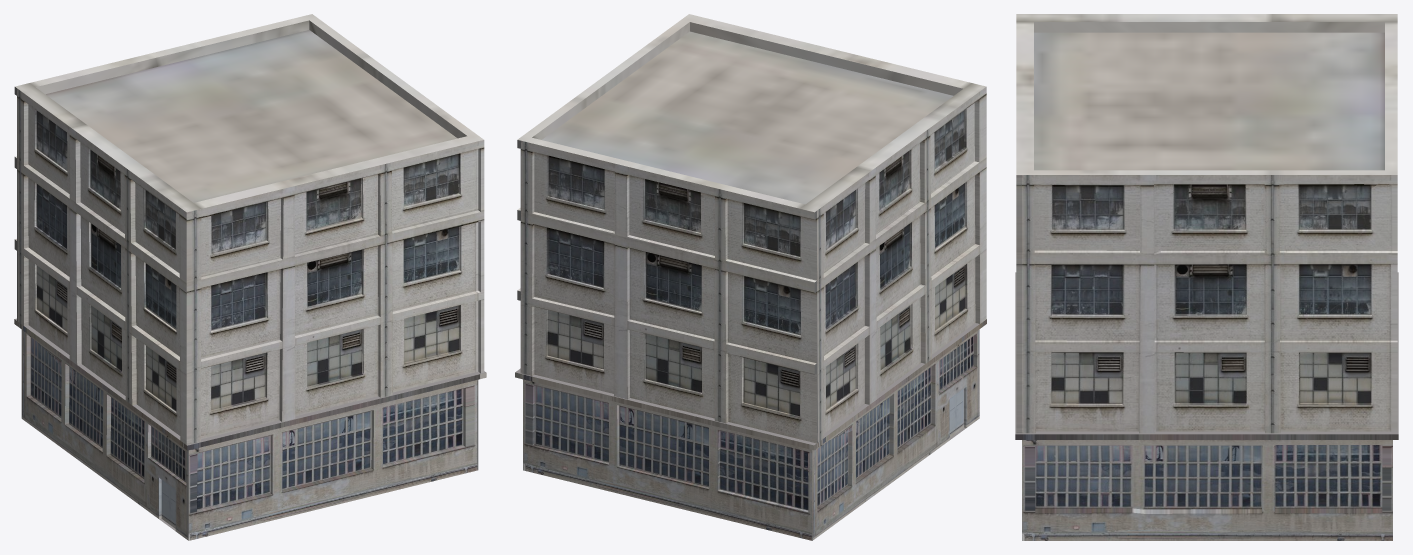
File: edifi1.dae
The picture shows the model from 3 angles, left to right: view 1: azimuth 30°, elevation 25°; view 2: azimuth 150°, elevation 25°; view 3: azimuth 270°, elevation 25°; orthographic projection. The views are drawn at different scales.
Parts seen in each view (by area): view 1: Cube; view 2: Cube; view 3: Cube.
Part boxes in pixels (x1,y1,x2,y2): Cube: (14,14,486,540); Cube: (515,14,986,540); Cube: (1015,14,1398,540).
Bounding box in the file's own units: 5.76 × 5.77 × 6.1.
